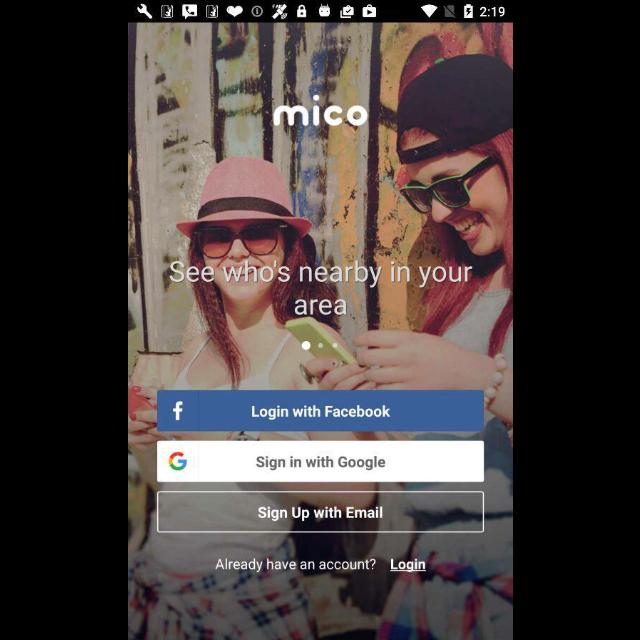backgroundimage: (128, 24, 512, 640)
pageindicator: (300, 340, 338, 350)
text: (170, 260, 472, 316), (272, 95, 368, 127), (214, 558, 376, 572), (390, 558, 426, 572)
textbutton: (156, 441, 484, 483), (156, 491, 484, 533), (157, 391, 483, 432)
uppertaskbar: (128, 1, 512, 23)
